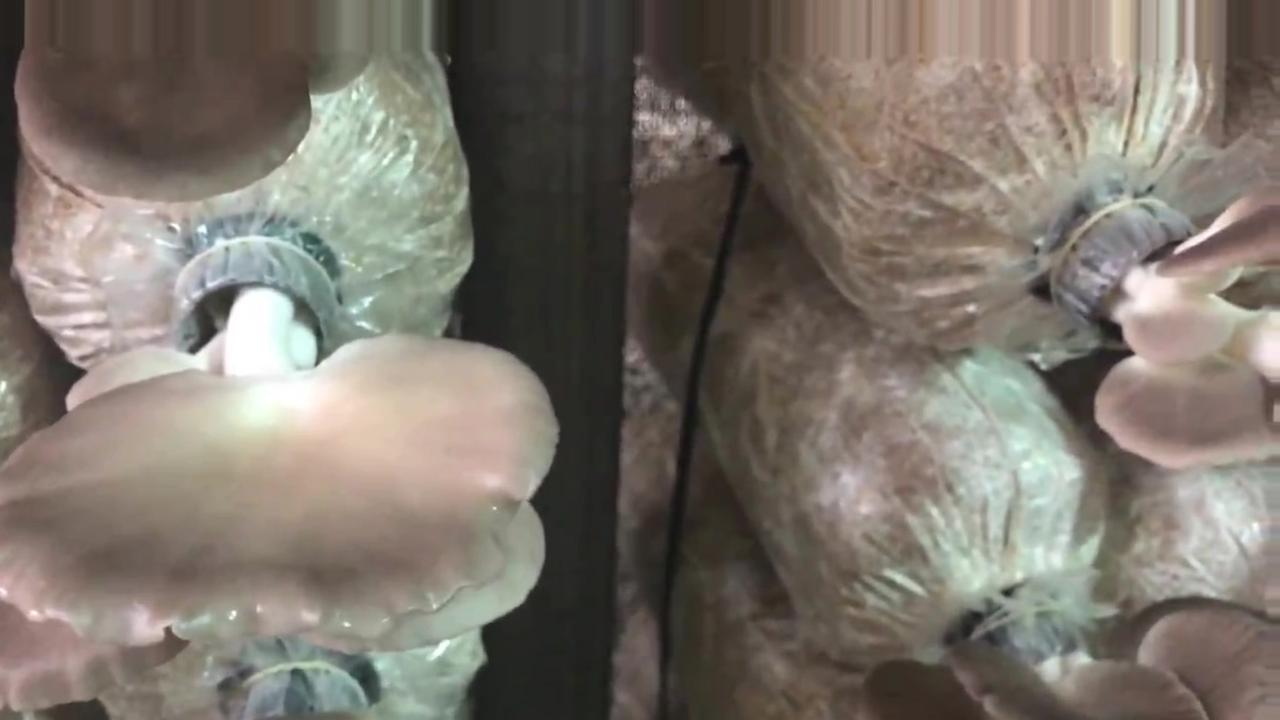nam: (1, 216, 564, 663), (14, 1, 388, 206), (1060, 193, 1280, 474)
